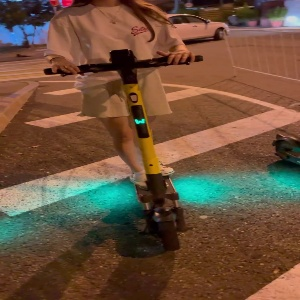human on a scooter: (42, 1, 205, 254)
